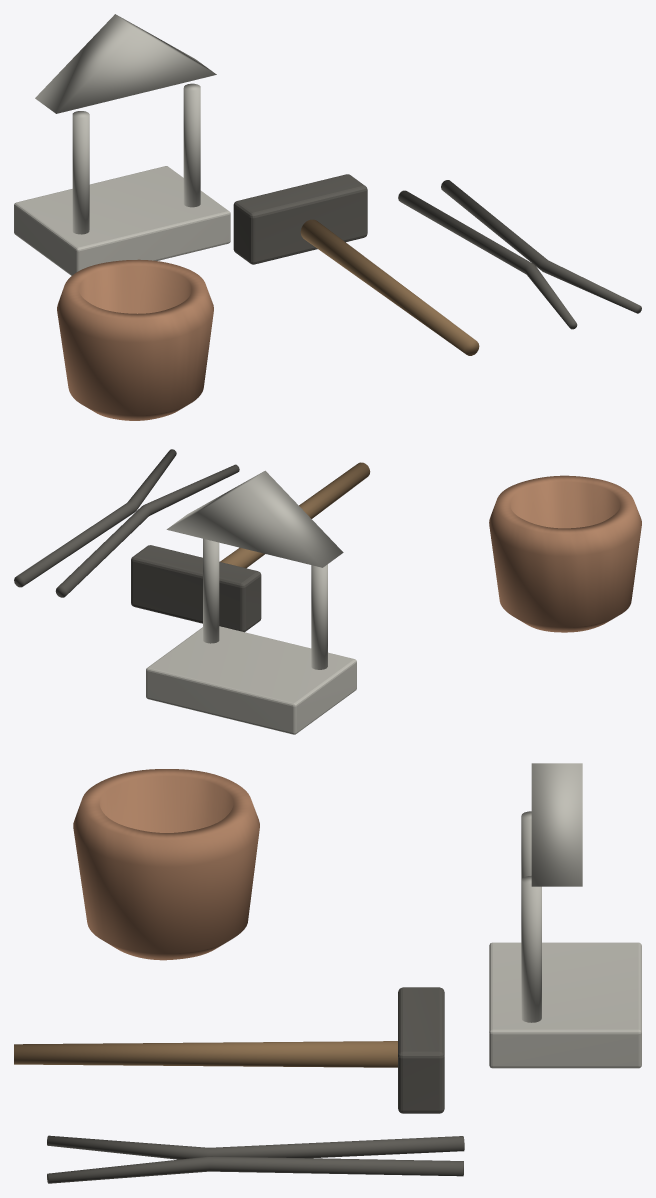
Rendered from paul-silverwork.glb.
3 views of the same model, one above another, from view 1: azimuth 30°, elevation 25°; view 2: azimuth 150°, elevation 25°; view 3: azimuth 270°, elevation 25° (orthographic). The views are drawn at different scales.
Visible parts, largest first — view 1: paul-silverwork-paul-silver-comparison, paul-silverwork-earthenware, paul-silverwork-paul-tool-iron, paul-silverwork-paul-ship-timber; view 2: paul-silverwork-paul-silver-comparison, paul-silverwork-earthenware, paul-silverwork-paul-tool-iron, paul-silverwork-paul-ship-timber; view 3: paul-silverwork-earthenware, paul-silverwork-paul-silver-comparison, paul-silverwork-paul-tool-iron, paul-silverwork-paul-ship-timber.
Boxes of the visible parts, bbox=[...] form: paul-silverwork-paul-silver-comparison: bbox=[14, 14, 230, 275]; paul-silverwork-earthenware: bbox=[57, 259, 213, 420]; paul-silverwork-paul-tool-iron: bbox=[233, 174, 641, 329]; paul-silverwork-paul-ship-timber: bbox=[300, 219, 479, 355]; paul-silverwork-paul-silver-comparison: bbox=[146, 470, 356, 734]; paul-silverwork-earthenware: bbox=[489, 475, 641, 632]; paul-silverwork-paul-tool-iron: bbox=[14, 449, 261, 632]; paul-silverwork-paul-ship-timber: bbox=[220, 462, 370, 568]; paul-silverwork-earthenware: bbox=[73, 769, 259, 960]; paul-silverwork-paul-silver-comparison: bbox=[489, 763, 641, 1068]; paul-silverwork-paul-tool-iron: bbox=[47, 987, 464, 1183]; paul-silverwork-paul-ship-timber: bbox=[14, 1041, 397, 1067].
Bounding box in the file's own units: 0.8478 × 0.34 × 0.74.
